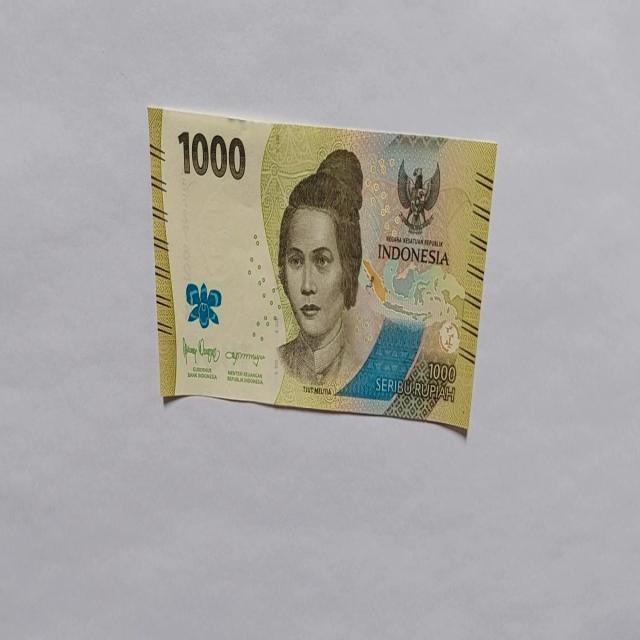seribu rupiah kertas: (147, 104, 497, 436)
